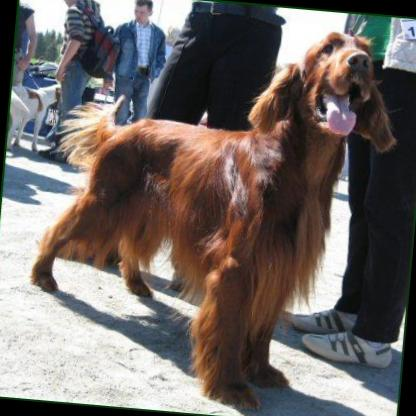Irish_setter: (15, 0, 394, 416)
